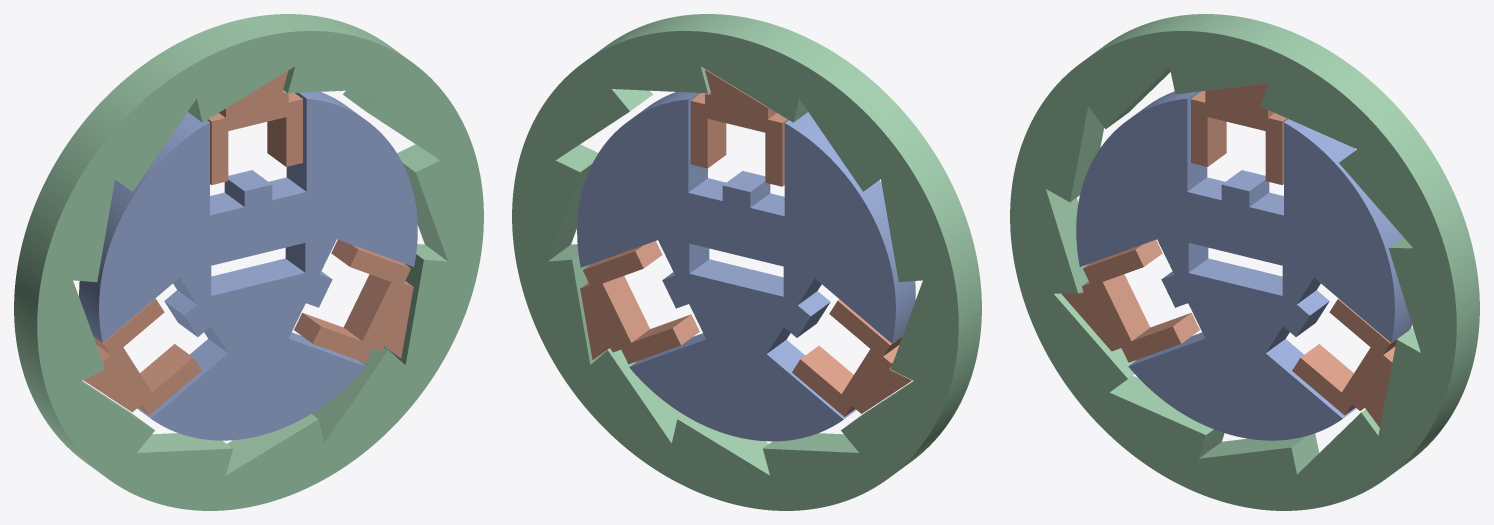
File: spring_cartridge_ratchet_demo.glb
3 views of the same model, side by side, from view 1: azimuth 30°, elevation 25°; view 2: azimuth 150°, elevation 25°; view 3: azimuth 330°, elevation 25° (orthographic).
Visible parts, largest first — view 1: cartridge_ring, cartridge_hub, pawl_2, pawl_1, pawl_0; view 2: cartridge_ring, cartridge_hub, pawl_2, pawl_1, pawl_0; view 3: cartridge_ring, cartridge_hub, pawl_1, pawl_2, pawl_0.
Part boxes in pixels (x1,y1,x2,y2): cartridge_ring: (14,14,483,510); cartridge_hub: (79,92,417,440); pawl_2: (294,240,413,362); pawl_1: (83,298,201,415); pawl_0: (207,71,302,184); cartridge_ring: (512,14,981,510); cartridge_hub: (577,92,915,441); pawl_2: (580,241,699,364); pawl_1: (792,299,912,416); pawl_0: (690,69,788,186); cartridge_ring: (1010,14,1479,510); cartridge_hub: (1076,91,1411,440); pawl_1: (1061,240,1199,362); pawl_2: (1292,298,1408,427); pawl_0: (1191,83,1287,184).
Size of the model in its own units: 35.6 by 35.6 by 3.2.
